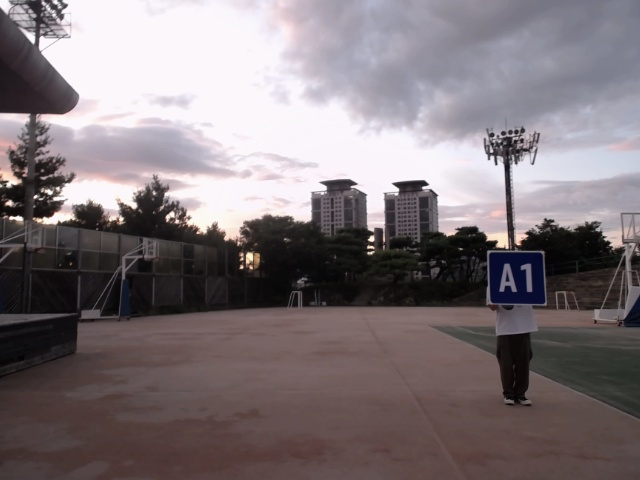delivery_a1: (487, 251, 547, 305)
